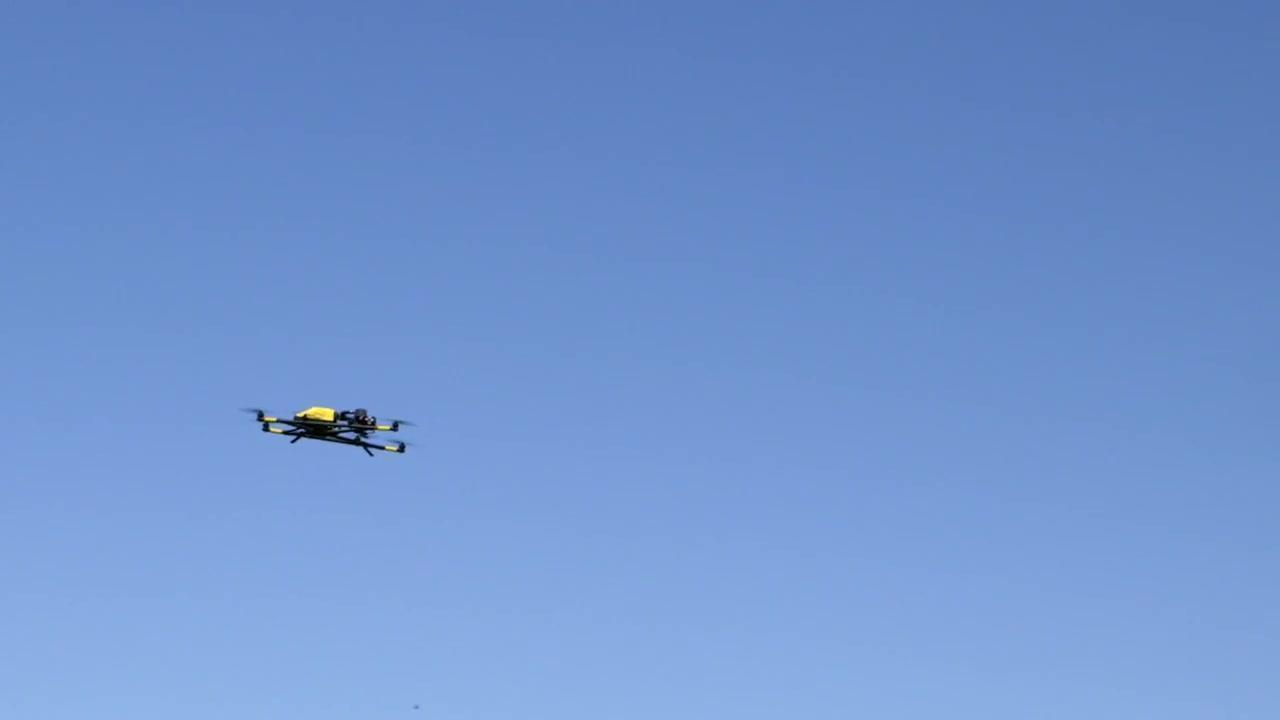UAV: (239, 408, 418, 458)
